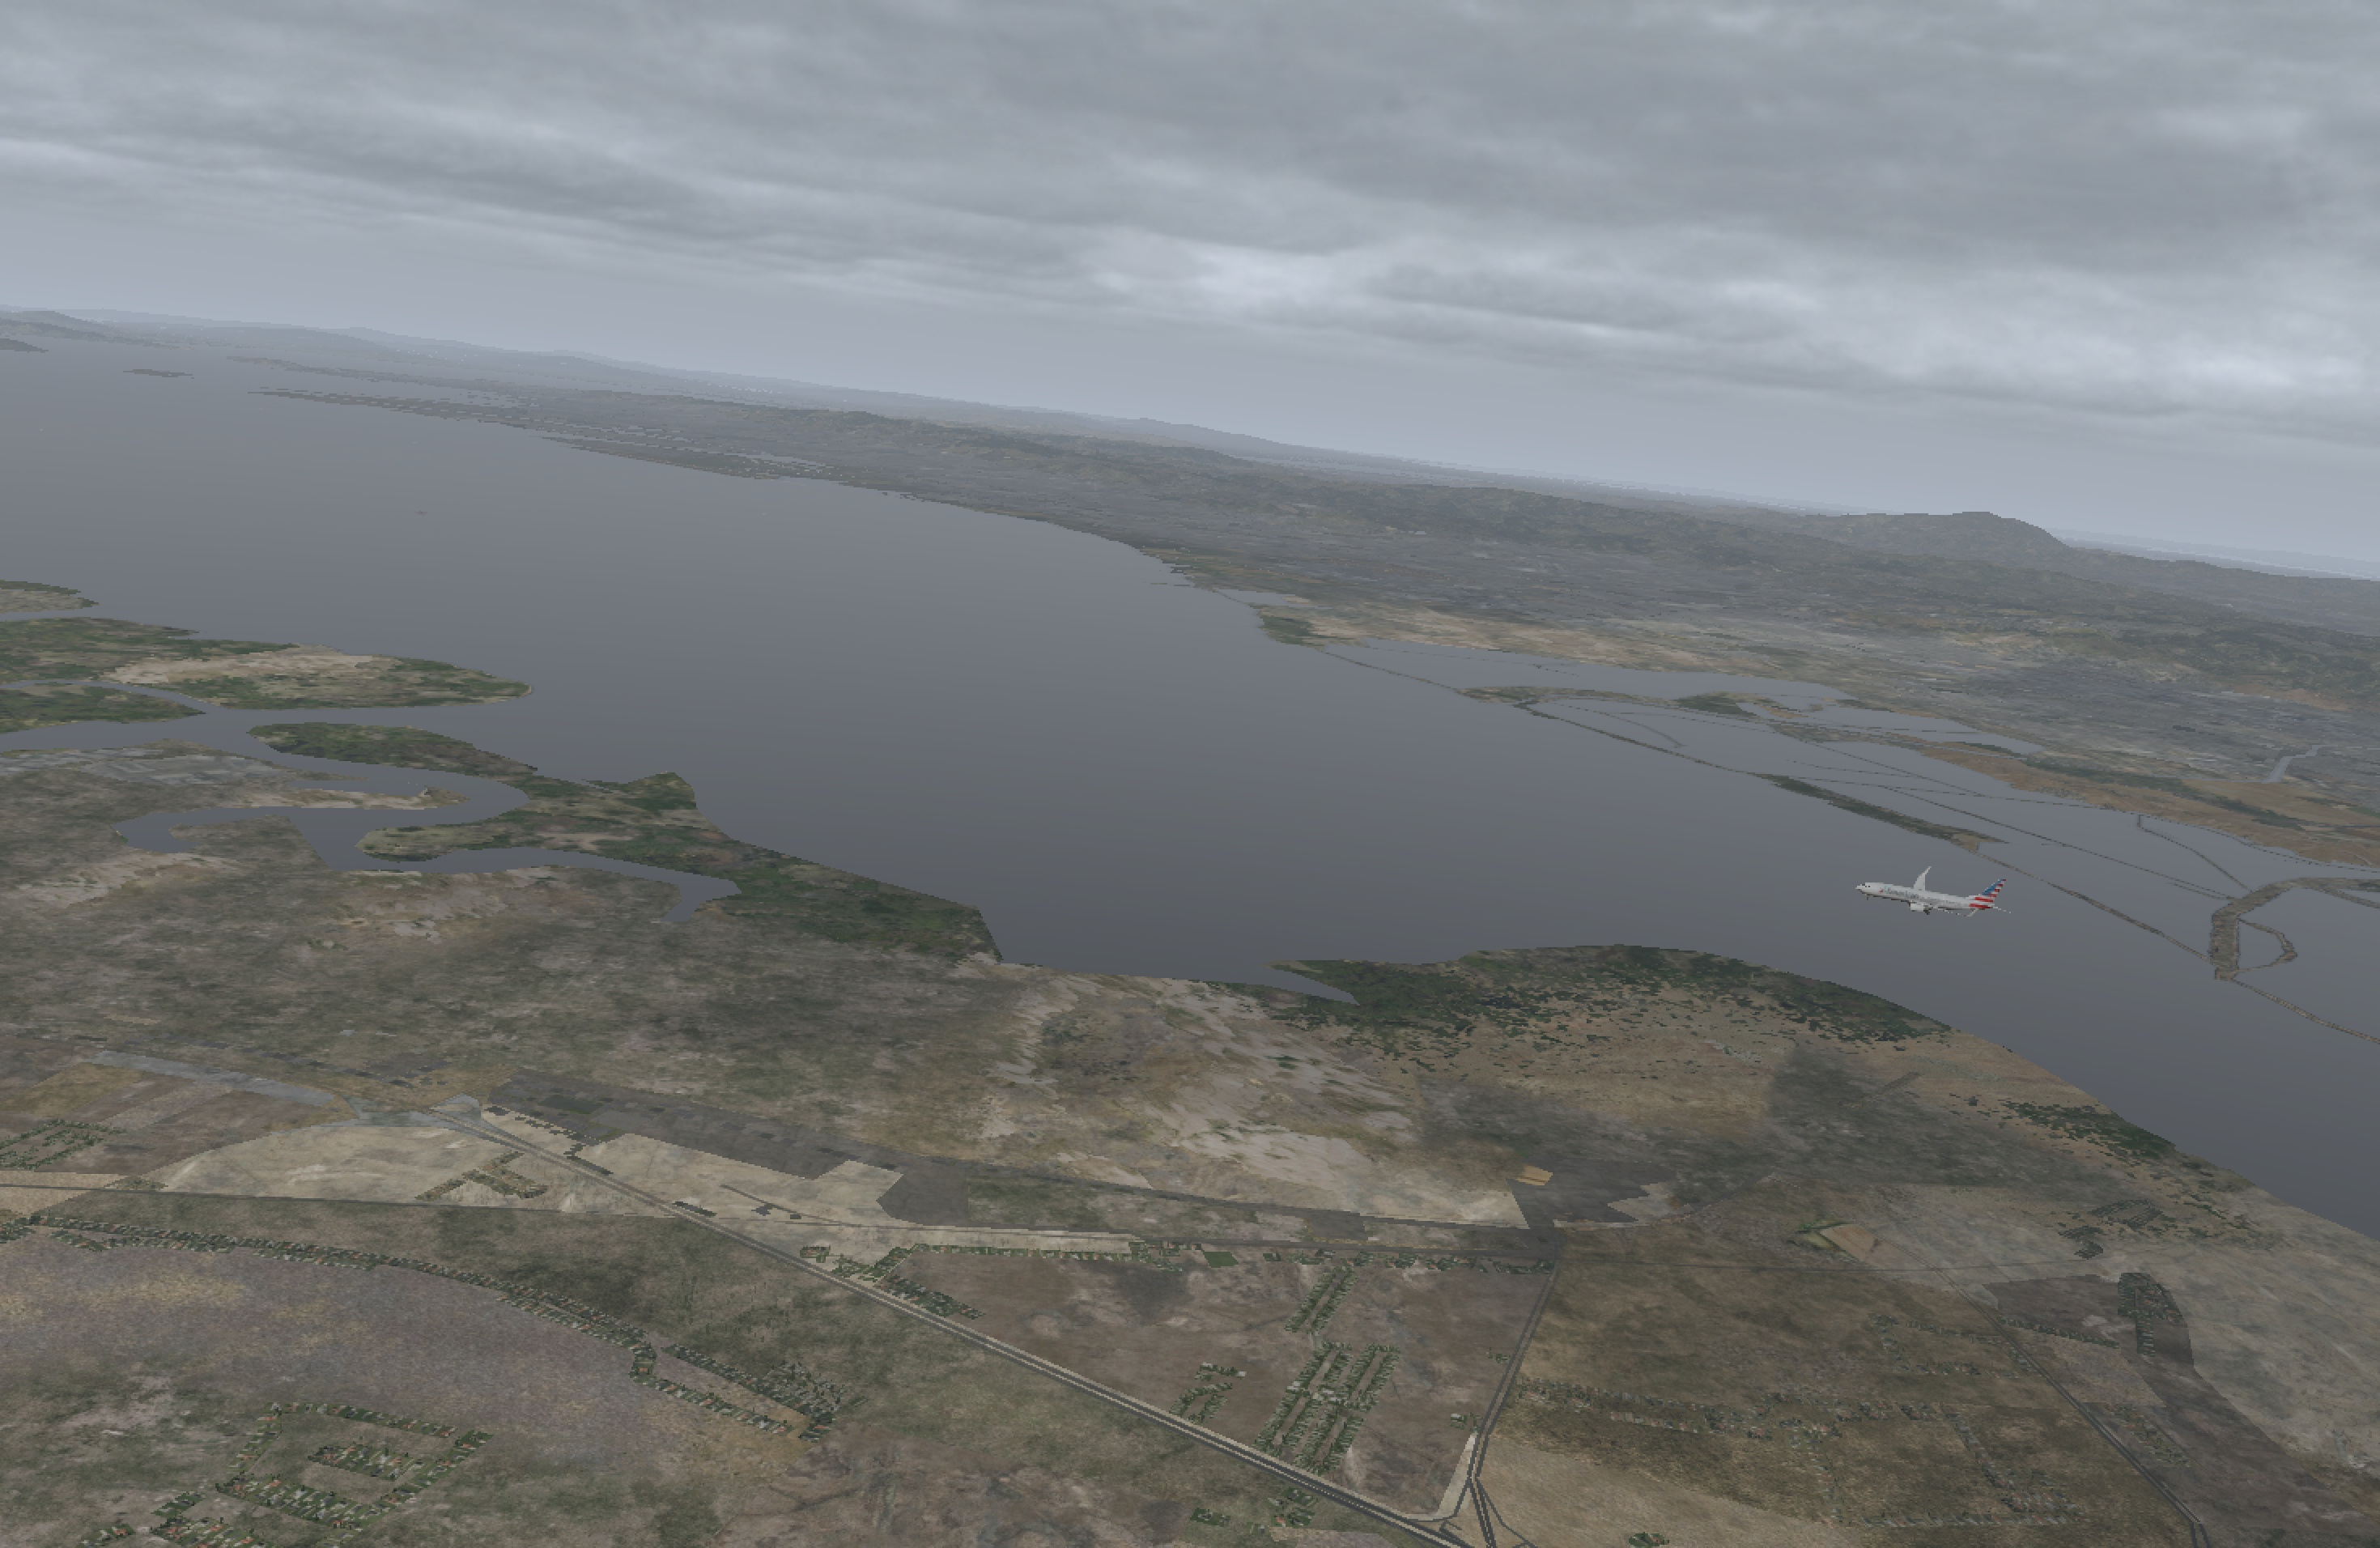aircraft: (1853, 873, 1990, 925)
